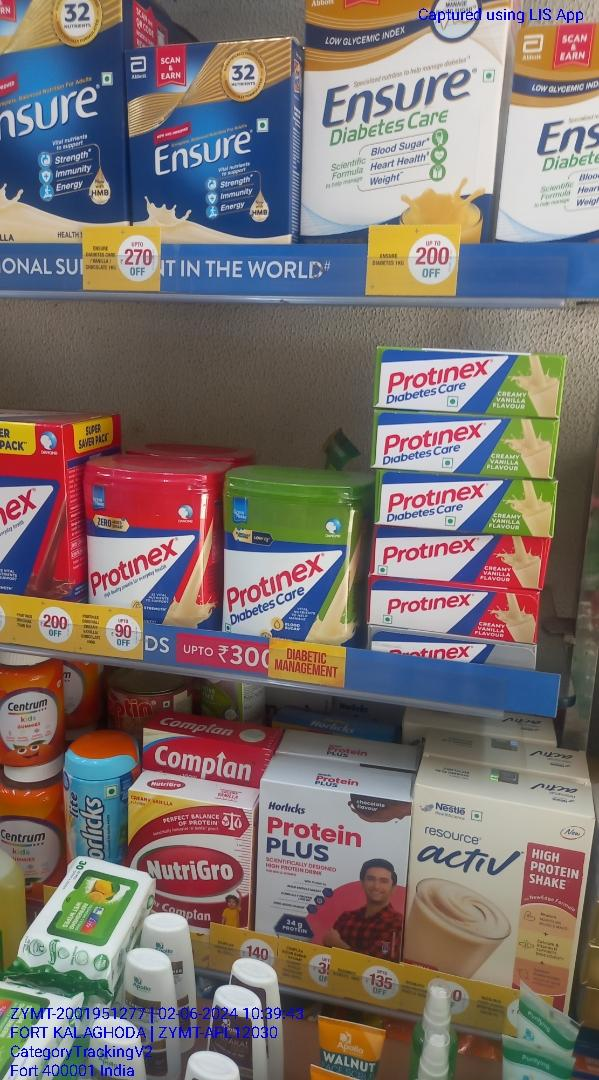ENSURE_VANILLA_400_G_PACK: (128, 35, 293, 252)
HORLICKS_LITE_REGULAR_MALT_500_GM_JAR: (62, 731, 128, 872)
PROTINEX_VANILLA_400_G_JAR: (77, 469, 218, 635)
